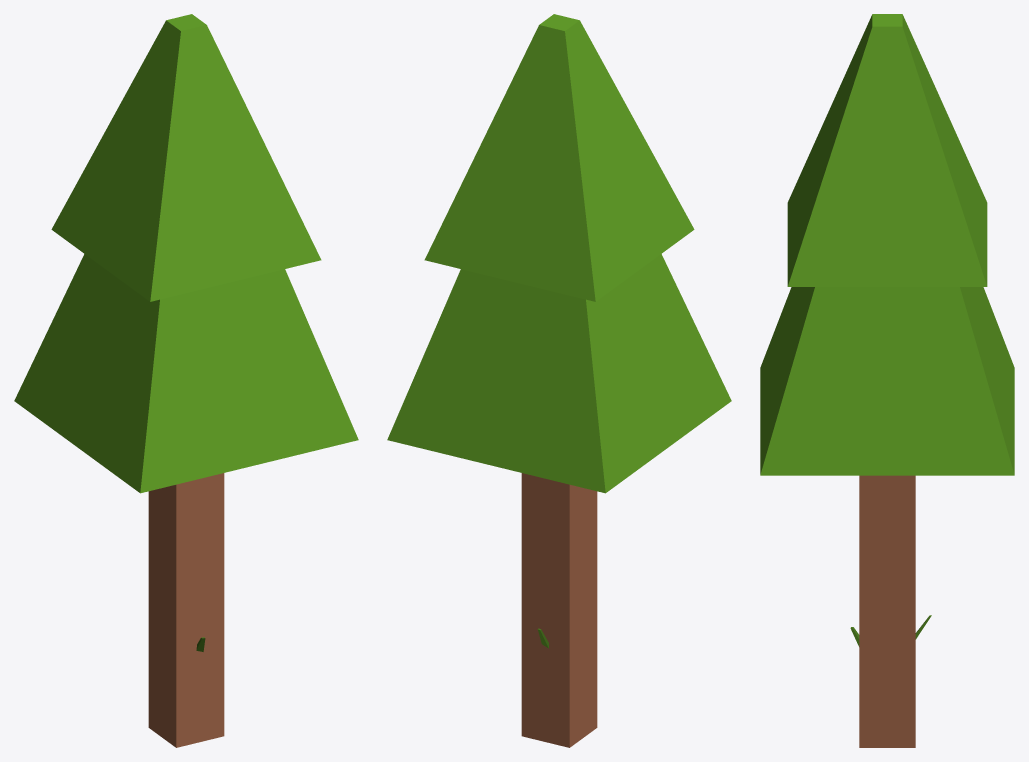
File: Environment.fbx
3 renders of one model, left to right at view 1: azimuth 30°, elevation 25°; view 2: azimuth 150°, elevation 25°; view 3: azimuth 270°, elevation 25°, orthographic.
Visible parts, largest first — view 1: Tree; view 2: Tree; view 3: Tree.
Boxes of the visible parts, box(x1,y1,x2,y2) form: Tree: box(14, 14, 358, 747); Tree: box(387, 14, 731, 747); Tree: box(760, 14, 1014, 747).
Size of the model in its own units: 4.3 by 4.3 by 13.33.
